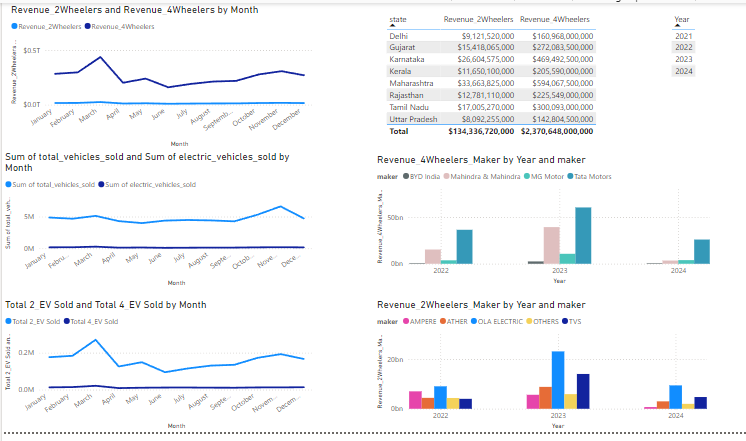

This screenshot's page, from the dashboard's own definition file:
{"tool":"powerbi","page":{"name":"Page 4","canvas":[1280,720],"ordinal":3},"visuals":[{"type":"lineChart","fields":{"Category":["electric_vehicle_sales_by_state.date.Variation.Date Hierarchy.Month"],"Y":["electric_vehicle_sales_by_state.Revenue_2Wheelers","electric_vehicle_sales_by_state.Revenue_4Wheelers"]},"box":[10.1,0,517.4,246.9],"z":0},{"type":"lineChart","fields":{"Y":["Sum(electric_vehicle_sales_by_state.total_vehicles_sold)","Sum(electric_vehicle_sales_by_state.electric_vehicles_sold)"],"Category":["electric_vehicle_sales_by_state.date.Variation.Date Hierarchy.Month"]},"box":[0,246.9,527.5,233.5],"z":1000},{"type":"lineChart","fields":{"Y":["electric_vehicle_sales_by_state.Total 2_EV Sold","electric_vehicle_sales_by_state.Total 4_EV Sold"],"Category":["electric_vehicle_sales_by_state.date.Variation.Date Hierarchy.Month"]},"box":[0,495.5,527.5,225.1],"z":2000},{"type":"tableEx","fields":{"Values":["electric_vehicle_sales_by_state.state","electric_vehicle_sales_by_state.Revenue_2Wheelers","electric_vehicle_sales_by_state.Revenue_4Wheelers"]},"box":[640,11.8,379.6,223.4],"z":3000},{"type":"tableEx","fields":{"Values":["electric_vehicle_sales_by_state.date.Variation.Date Hierarchy.Year"]},"box":[1118.7,11.8,75.6,129.3],"z":4000},{"type":"clusteredColumnChart","fields":{"Y":["electric_vehicle_sales_by_makers.Revenue_2Wheelers_Maker"],"Category":["electric_vehicle_sales_by_makers.date.Variation.Date Hierarchy.Year"],"Series":["electric_vehicle_sales_by_makers.maker"]},"box":[624.9,495.5,564.4,225.1],"z":5000},{"type":"clusteredColumnChart","fields":{"Category":["electric_vehicle_sales_by_makers.date.Variation.Date Hierarchy.Year"],"Series":["electric_vehicle_sales_by_makers.maker"],"Y":["electric_vehicle_sales_by_makers.Revenue_4Wheelers_Maker"]},"box":[624.9,252,569.4,225.1],"z":5003}]}

Visuals, with their boxes on the page's 1280x720 design canvas (x1, y1, x2, y2). These are canvas units, not pixel positions in the 746x441 screenshot, which may show the page scaled, cropped or inside an application window:
lineChart - electric_vehicle_sales_by_state.date.Variation.Date Hierarchy.Month x electric_vehicle_sales_by_state.Revenue_2Wheelers: [x1=10, y1=0, x2=528, y2=247]
lineChart - Sum(electric_vehicle_sales_by_state.total_vehicles_sold) x Sum(electric_vehicle_sales_by_state.electric_vehicles_sold): [x1=0, y1=247, x2=528, y2=480]
lineChart - electric_vehicle_sales_by_state.Total 2_EV Sold x electric_vehicle_sales_by_state.Total 4_EV Sold: [x1=0, y1=496, x2=528, y2=721]
tableEx - electric_vehicle_sales_by_state.state x electric_vehicle_sales_by_state.Revenue_2Wheelers: [x1=640, y1=12, x2=1020, y2=235]
tableEx - electric_vehicle_sales_by_state.date.Variation.Date Hierarchy.Year: [x1=1119, y1=12, x2=1194, y2=141]
clusteredColumnChart - electric_vehicle_sales_by_makers.Revenue_2Wheelers_Maker x electric_vehicle_sales_by_makers.date.Variation.Date Hierarchy.Year: [x1=625, y1=496, x2=1189, y2=721]
clusteredColumnChart - electric_vehicle_sales_by_makers.date.Variation.Date Hierarchy.Year x electric_vehicle_sales_by_makers.maker: [x1=625, y1=252, x2=1194, y2=477]
